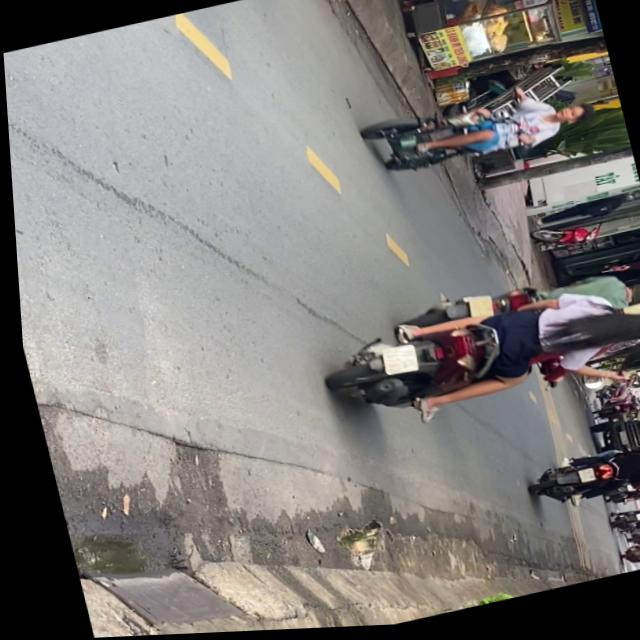helmet: (612, 302, 640, 330), (622, 283, 640, 311)
licenseplate: (308, 264, 640, 440), (354, 74, 596, 187), (517, 434, 640, 516)
motorcyclist: (576, 305, 640, 358), (551, 105, 588, 129)
nohelmet: (375, 344, 415, 378), (463, 295, 491, 322), (572, 470, 588, 486)
